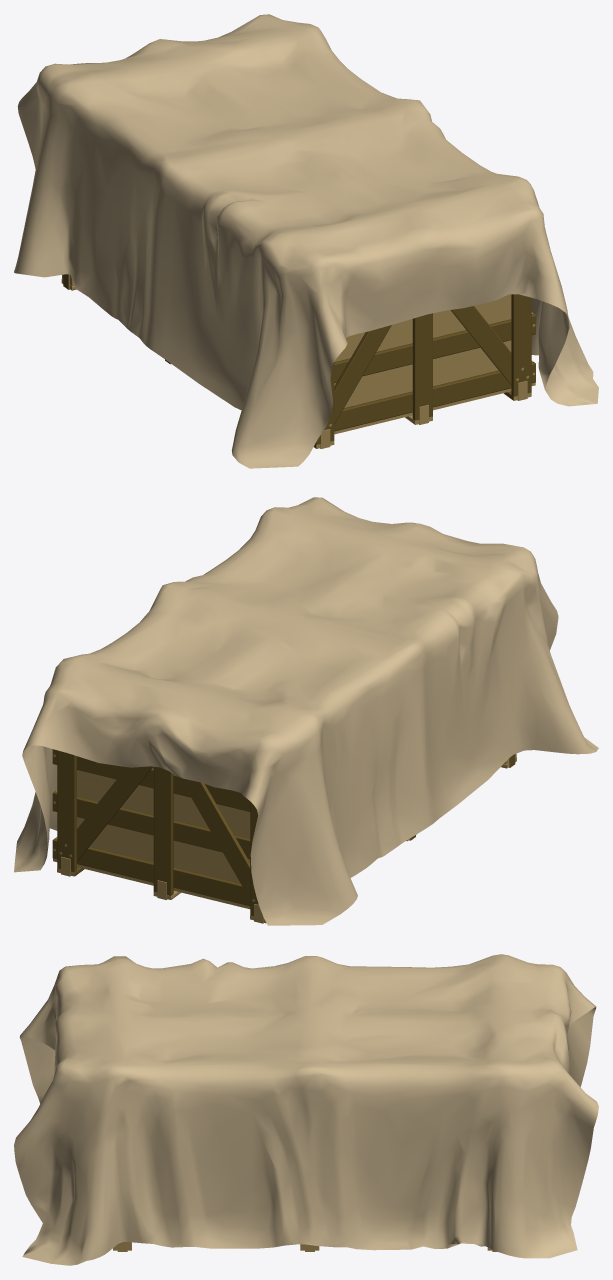
File: ortulu_kutu.fbx
3 renders of one model, top to bottom at view 1: azimuth 30°, elevation 25°; view 2: azimuth 150°, elevation 25°; view 3: azimuth 270°, elevation 25°, orthographic. The views are drawn at different scales.
Parts seen in each view (by area): view 1: polySurface9; view 2: polySurface9; view 3: polySurface9.
Boxes of the visible parts, x1=… form: polySurface9: x1=14, y1=14, x2=598, y2=468; polySurface9: x1=14, y1=497, x2=598, y2=925; polySurface9: x1=14, y1=954, x2=598, y2=1265.
Size of the model in its own units: 185 by 101 by 284.
